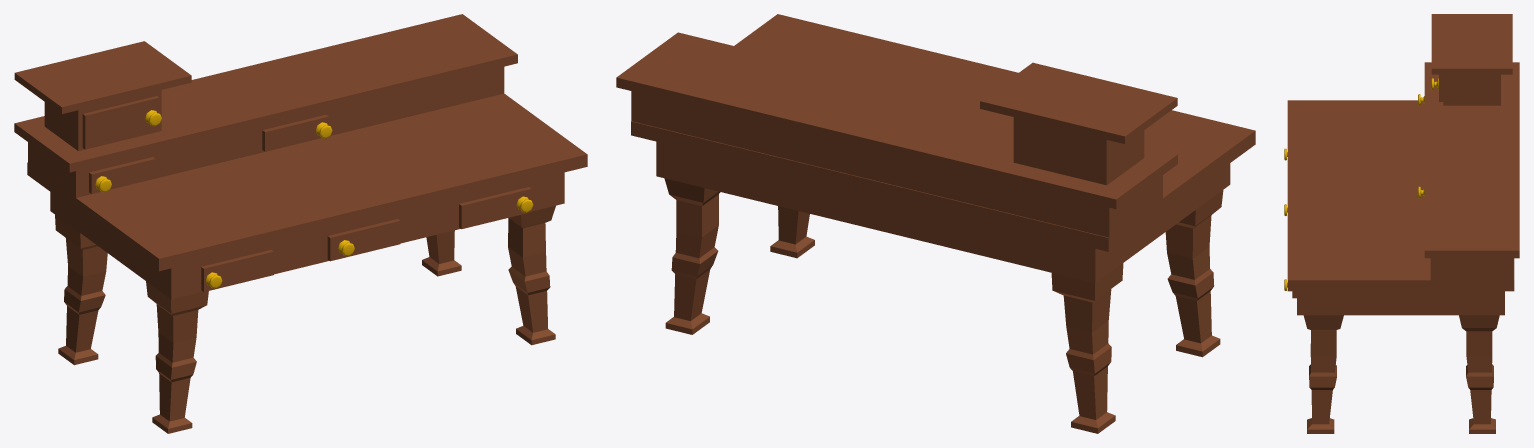
The model's file is Clean desk.glb.
The picture shows the model from 3 angles, left to right: view 1: azimuth 30°, elevation 25°; view 2: azimuth 150°, elevation 25°; view 3: azimuth 270°, elevation 25°; orthographic projection. The views are drawn at different scales.
Parts seen in each view (by area): view 1: Cube; view 2: Cube; view 3: Cube.
Boxes of the visible parts, x1,y1,x2,y2 form: Cube: [14, 14, 587, 433]; Cube: [616, 14, 1255, 433]; Cube: [1284, 14, 1519, 433].
Bounding box in the file's own units: 1.13 × 0.6756 × 0.5937.
2 materials, 1 textured.
